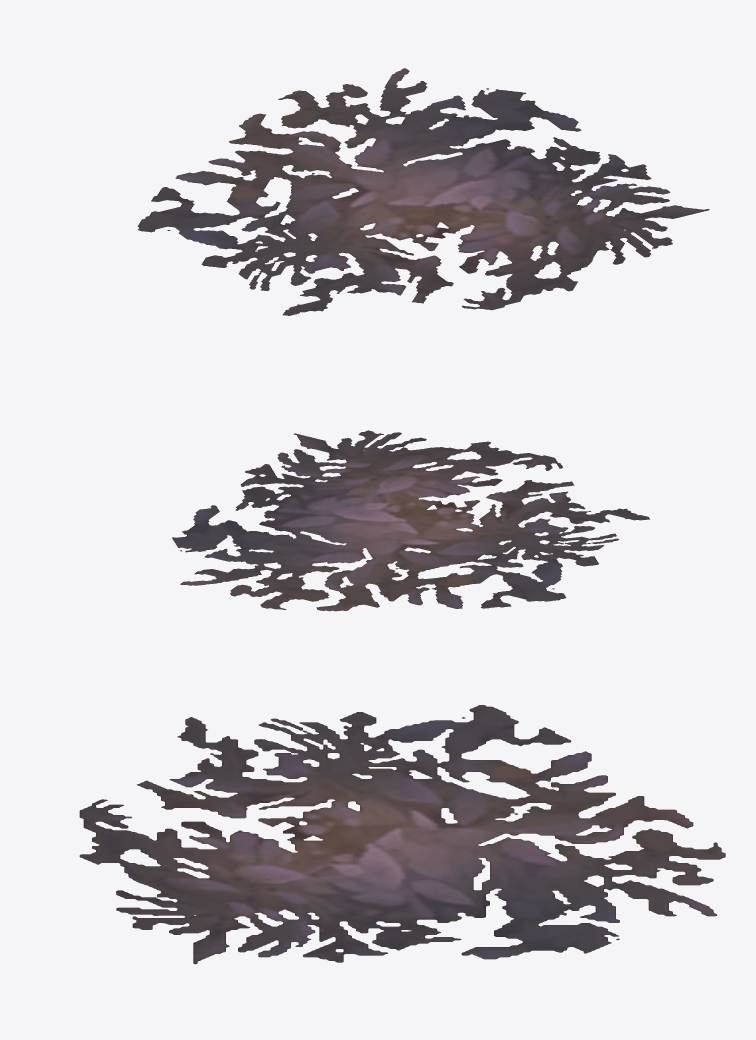
Rendered from yw_shanlin_ground_028.FBX.
The picture shows the model from 3 angles, top to bottom: view 1: azimuth 30°, elevation 25°; view 2: azimuth 150°, elevation 25°; view 3: azimuth 270°, elevation 25°; orthographic projection. The views are drawn at different scales.
Visible parts, largest first — view 1: yw_shanlin_ground_028; view 2: yw_shanlin_ground_028; view 3: yw_shanlin_ground_028.
Part boxes in pixels (<box>): yw_shanlin_ground_028: <box>137,68,709,315</box>; yw_shanlin_ground_028: <box>172,430,649,611</box>; yw_shanlin_ground_028: <box>79,705,725,964</box>.
Bounding box in the file's own units: 203 × 1.16e-14 × 190.
